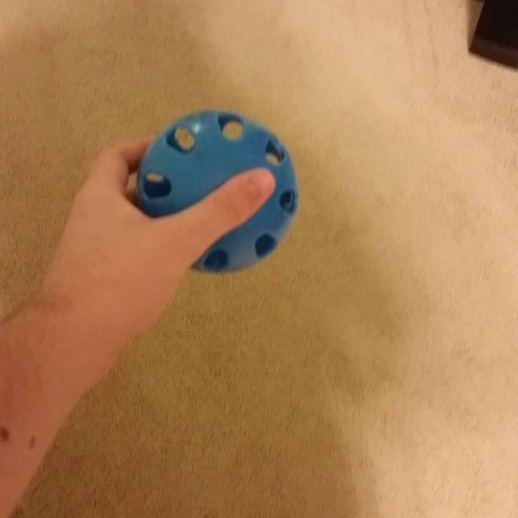blueball: (132, 105, 304, 278)
